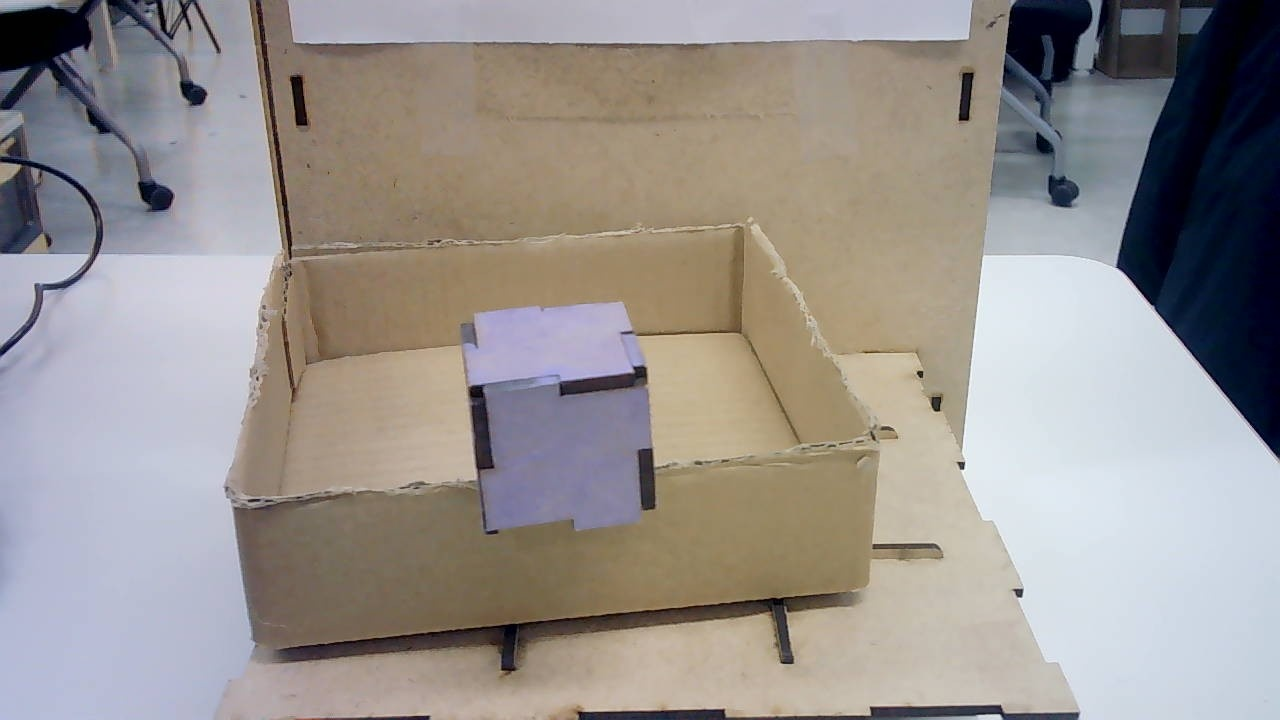pulple box: (460, 297, 659, 529)
